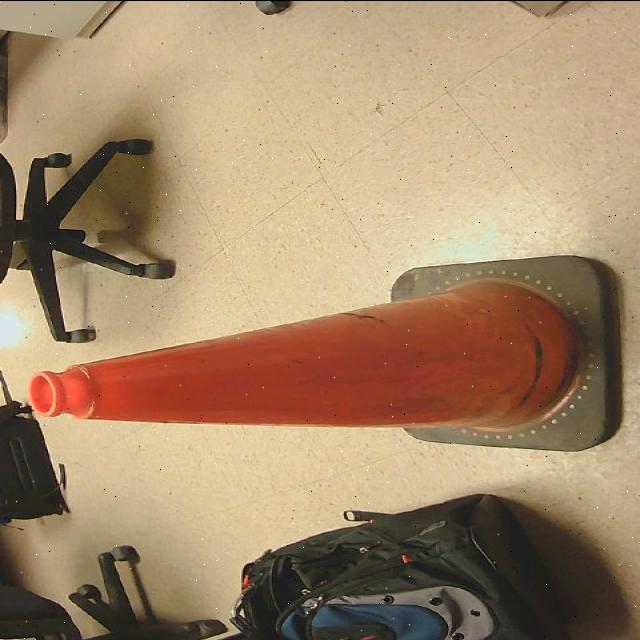traffic cone: (29, 255, 626, 452)
